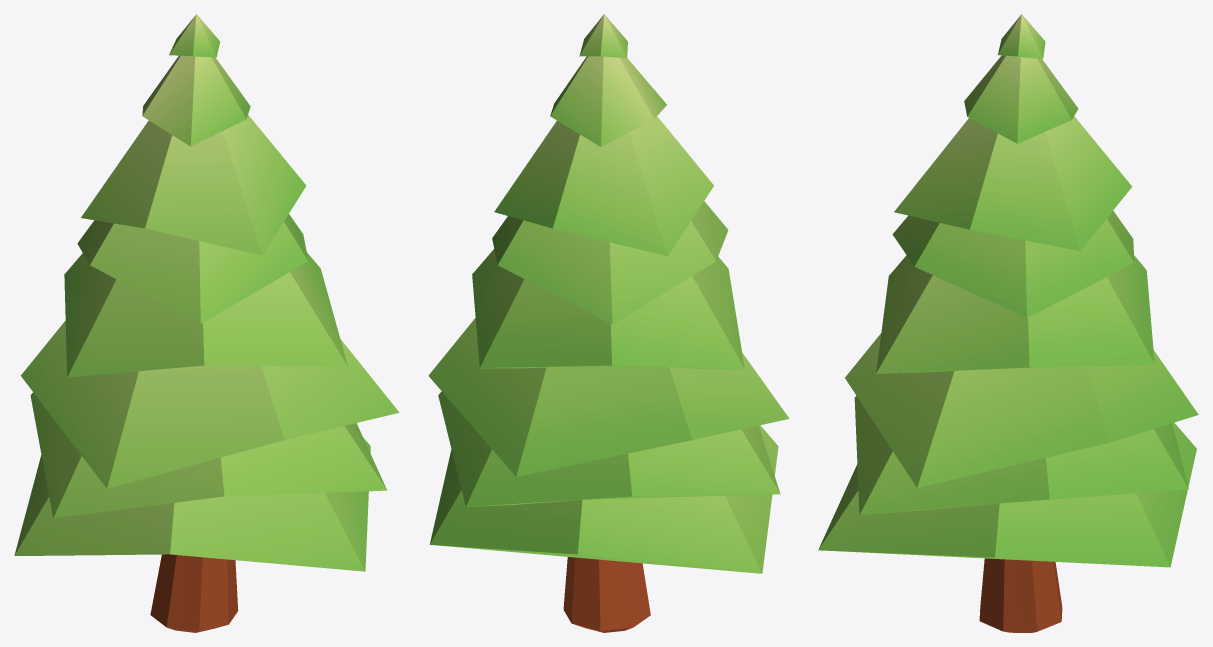
Rendered from LowPolyTree2.fbx.
The picture shows the model from 3 angles, left to right: view 1: azimuth 30°, elevation 25°; view 2: azimuth 150°, elevation 25°; view 3: azimuth 270°, elevation 25°; orthographic projection.
Parts seen in each view (by area): view 1: Cone.002; view 2: Cone.002; view 3: Cone.002.
Part boxes in pixels (box(x1,y1,x2,y2)): Cone.002: box(14, 14, 399, 632); Cone.002: box(428, 14, 789, 632); Cone.002: box(818, 14, 1198, 632).
Bounding box in the file's own units: 5109 × 8937 × 5056.
